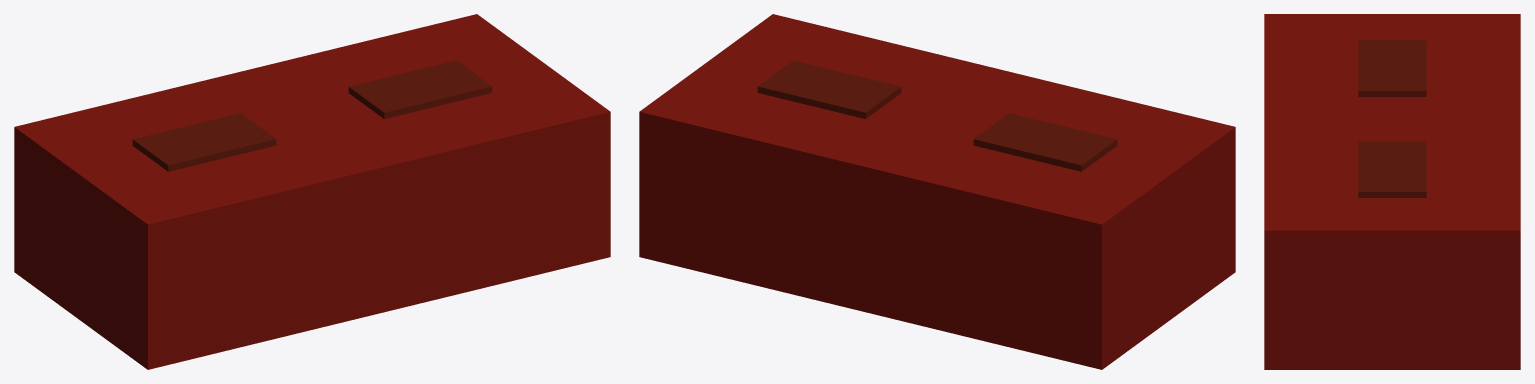
File: bricks.glb
3 views of the same model, side by side, from view 1: azimuth 30°, elevation 25°; view 2: azimuth 150°, elevation 25°; view 3: azimuth 270°, elevation 25° (orthographic). The views are drawn at different scales.
Parts seen in each view (by area): view 1: bricks; view 2: bricks; view 3: bricks.
Boxes of the visible parts, x1,y1,x2,y2 form: bricks: (14, 14, 610, 369); bricks: (639, 14, 1235, 369); bricks: (1264, 14, 1520, 369).
Size of the model in its own units: 0.3 by 0.094 by 0.15.
1 material, 1 textured.
